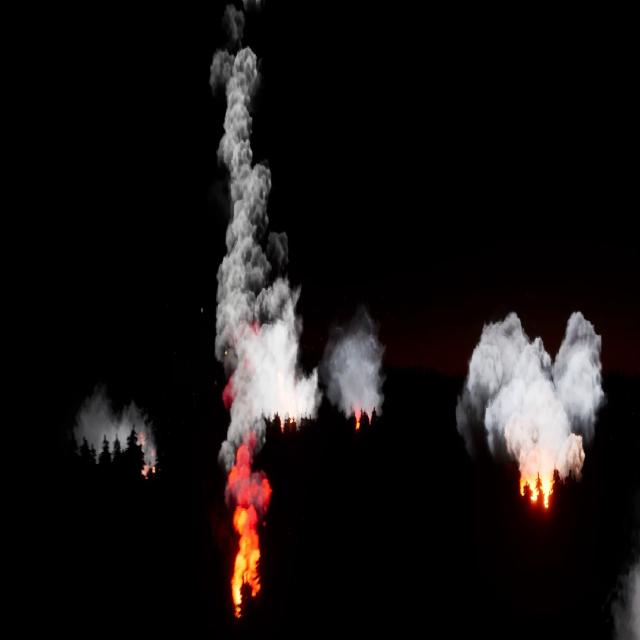fire: (222, 467, 278, 625), (518, 474, 560, 507)
smoke: (204, 0, 323, 459), (456, 303, 608, 474), (76, 392, 159, 473), (330, 320, 381, 414)
